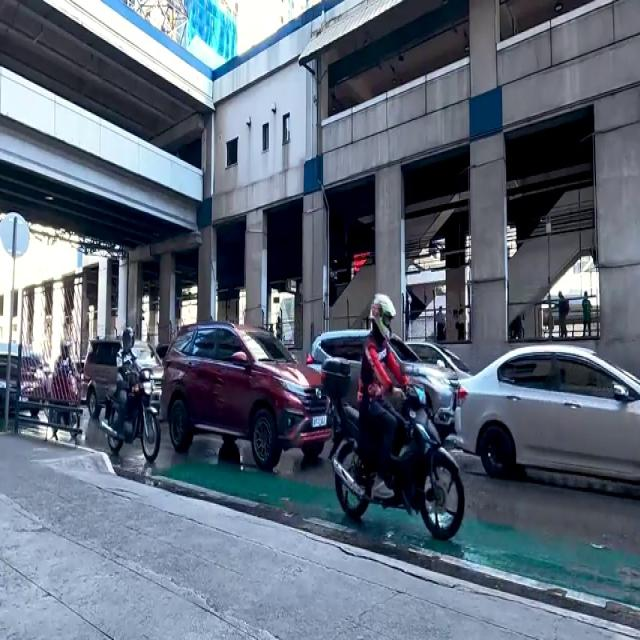car: (467, 342, 640, 487), (177, 331, 325, 468), (316, 330, 453, 426)
motorcycle: (351, 316, 454, 532), (110, 328, 162, 469), (54, 348, 85, 434)
